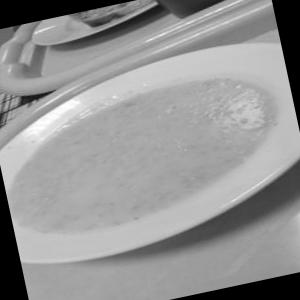porridge: (0, 62, 276, 270)
